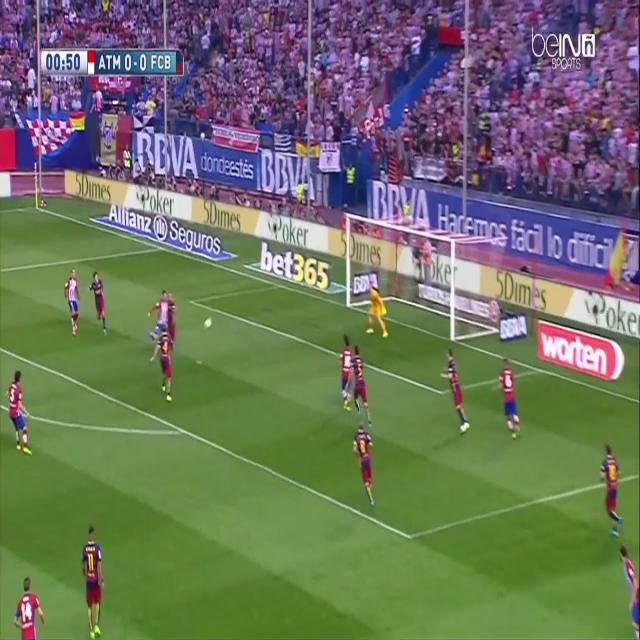Ball: (202, 314, 213, 334)
Goalkeeper: (362, 280, 389, 340)
Player: (80, 521, 107, 640), (440, 345, 473, 439), (597, 442, 628, 541), (492, 354, 525, 445), (147, 326, 178, 406), (6, 366, 32, 456), (352, 422, 378, 511), (13, 572, 46, 639), (617, 544, 639, 640), (350, 344, 373, 428), (86, 271, 109, 335), (63, 268, 81, 339), (146, 284, 168, 338), (339, 334, 354, 413), (167, 289, 178, 347)
